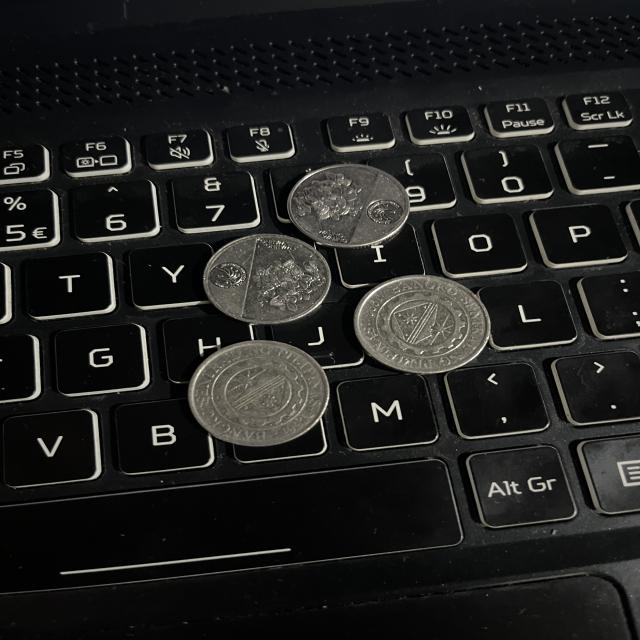1_New_Back: (292, 162, 368, 243), (253, 239, 317, 313)
1_Old_Back: (185, 340, 328, 452), (356, 273, 488, 373)
